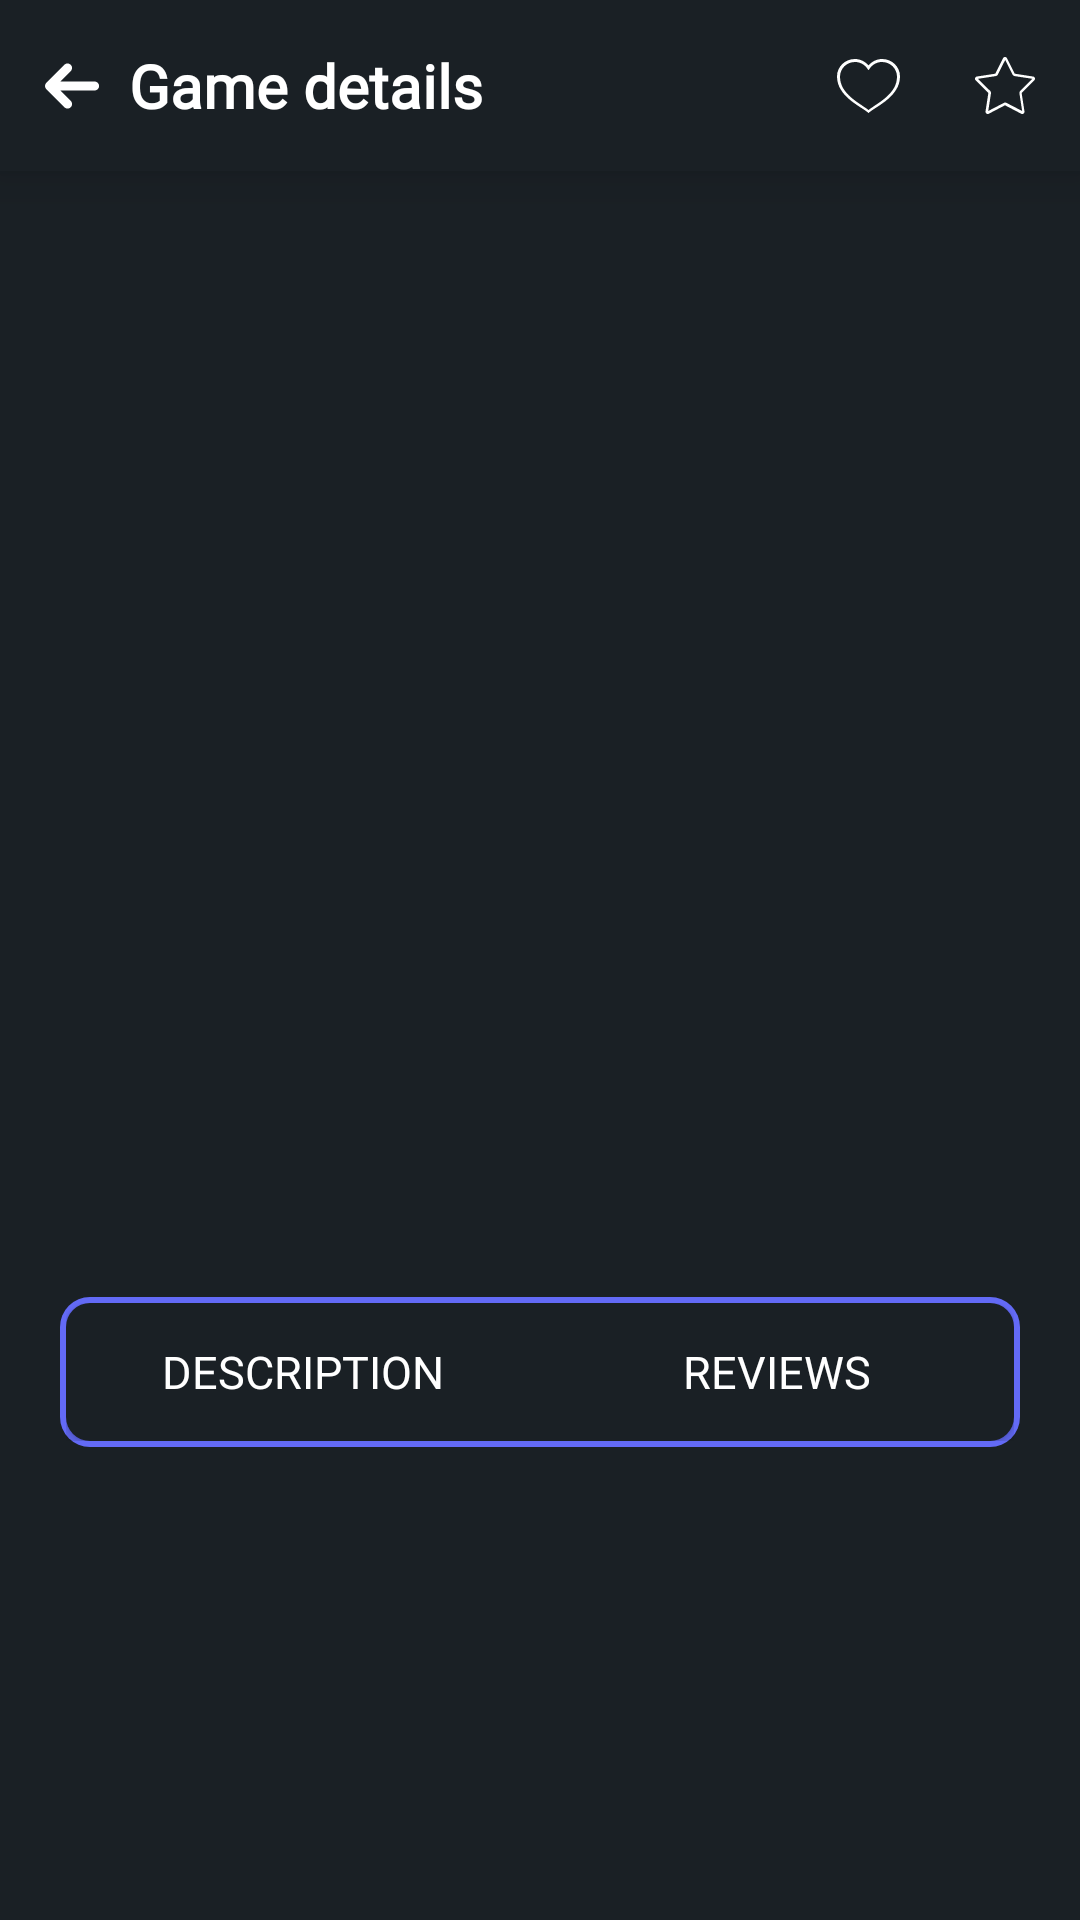

Locate icon controls on the screen. Image size 1080 x 1920, boxes as (x1, y1, x2, y2).
back: (45, 63, 99, 109)
like: (837, 59, 900, 113)
